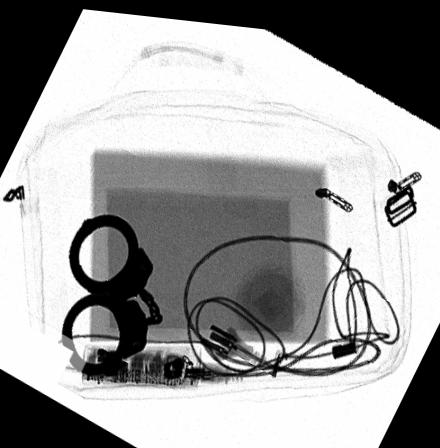HandCuffs: (61, 210, 163, 373)
